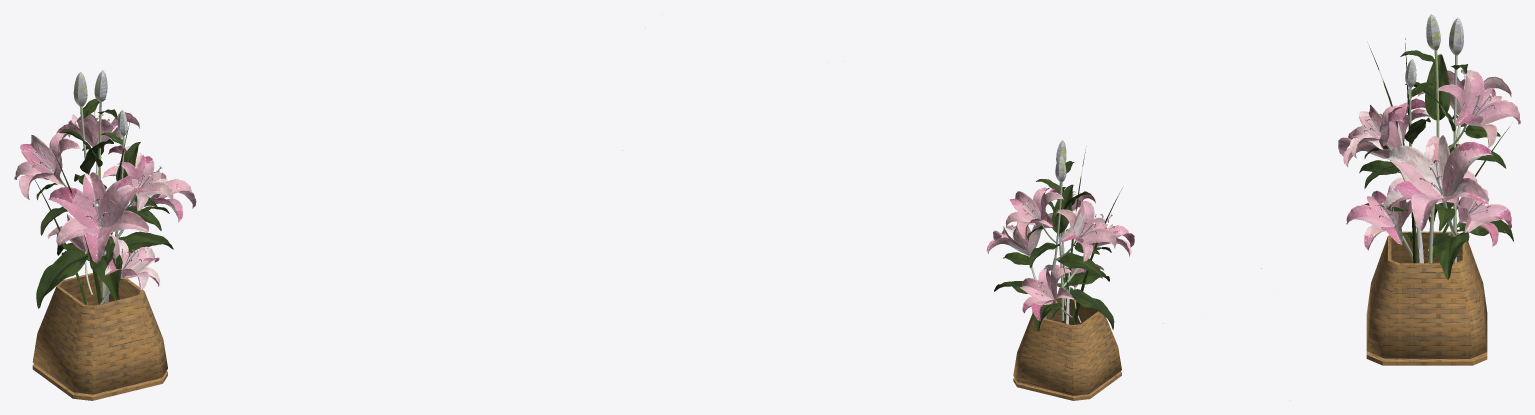
File: flores-rositas-en-canasta-de-mimbre.glb
The picture shows the model from 3 angles, left to right: view 1: azimuth 30°, elevation 25°; view 2: azimuth 150°, elevation 25°; view 3: azimuth 270°, elevation 25°; orthographic projection. The views are drawn at different scales.
Visible parts, largest first — view 1: SketchUp.003, SketchUp.076, SketchUp, SketchUp.011, SketchUp.008, SketchUp.030; view 2: SketchUp.003, SketchUp.076, SketchUp, SketchUp.008, SketchUp.011; view 3: SketchUp.076, SketchUp.003, SketchUp, SketchUp.008, SketchUp.011, SketchUp.030, SketchUp.041.
Part boxes in pixels (<box>): SketchUp.003: <box>32,273,167,400</box>; SketchUp.076: <box>14,14,662,290</box>; SketchUp: <box>34,98,173,308</box>; SketchUp.011: <box>31,70,159,261</box>; SketchUp.008: <box>32,102,162,304</box>; SketchUp.030: <box>73,70,127,136</box>; SketchUp.003: <box>1013,298,1121,400</box>; SketchUp.076: <box>843,61,1134,321</box>; SketchUp: <box>994,150,1122,331</box>; SketchUp.008: <box>1012,182,1113,322</box>; SketchUp.011: <box>1011,140,1114,296</box>; SketchUp.076: <box>1163,69,1520,400</box>; SketchUp.003: <box>1366,231,1487,365</box>; SketchUp: <box>1359,38,1513,279</box>; SketchUp.008: <box>1365,50,1493,263</box>; SketchUp.011: <box>1364,14,1495,217</box>; SketchUp.030: <box>1405,15,1463,87</box>; SketchUp.041: <box>1365,72,1493,225</box>.
Size of the model in its own units: 0.888 by 0.4505 by 0.4445.
10 materials, 6 textured.
